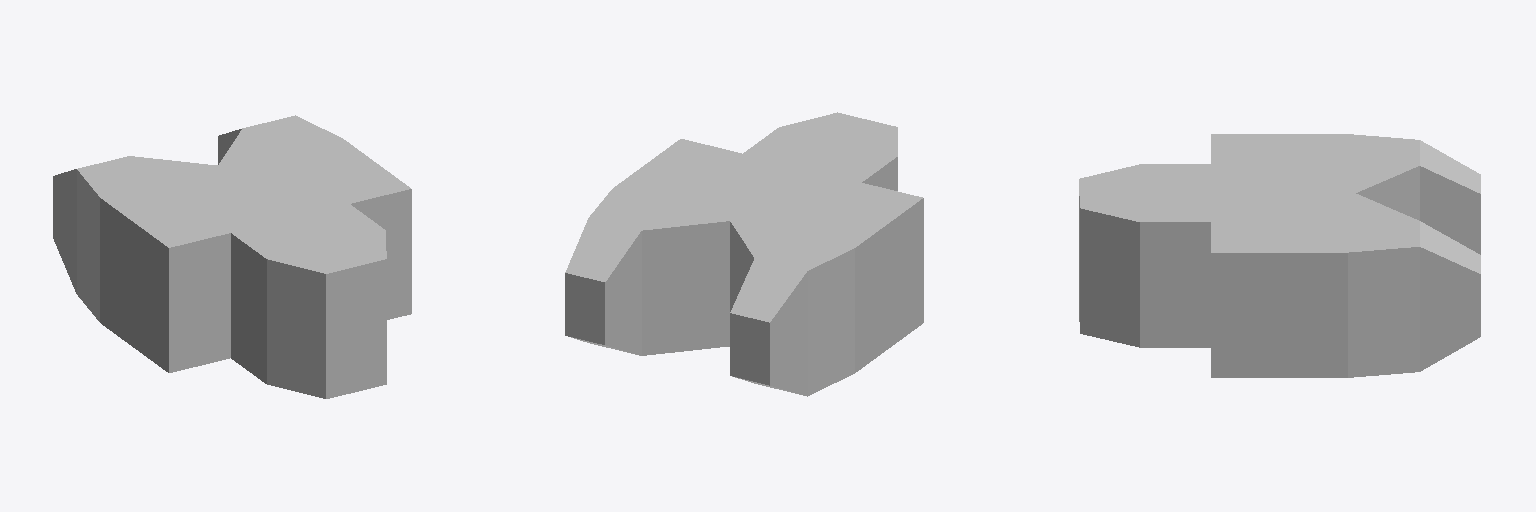
Rendered from hand.and.connecter.piece.obj.
The picture shows the model from 3 angles: view 1: azimuth 30°, elevation 25°; view 2: azimuth 150°, elevation 25°; view 3: azimuth 270°, elevation 25°; orthographic projection.
Visible parts, largest first — view 1: default; view 2: default; view 3: default.
Part boxes in pixels (left/top/right/bottom): default: left=53, top=115, right=411, bottom=398; default: left=565, top=112, right=923, bottom=396; default: left=1079, top=134, right=1480, bottom=377.
Bounding box in the file's own units: 0.1174 × 0.0579 × 0.1681.